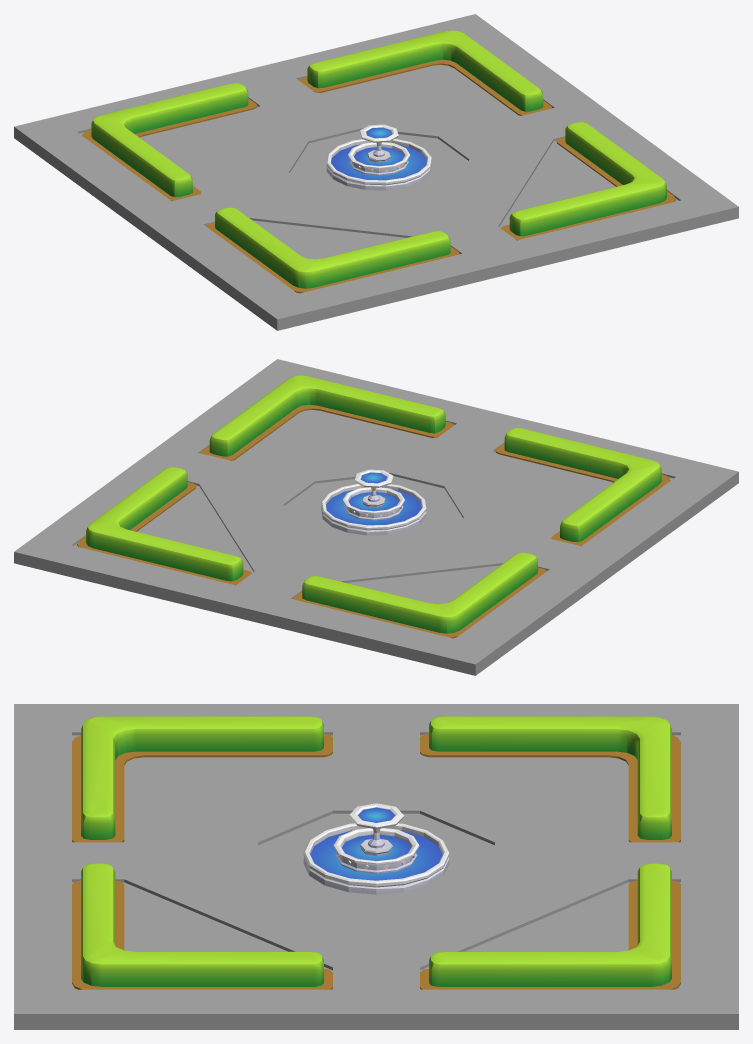
File: Center.fbx
3 views of the same model, one above another, from view 1: azimuth 30°, elevation 25°; view 2: azimuth 150°, elevation 25°; view 3: azimuth 270°, elevation 25° (orthographic). The views are drawn at different scales.
Visible parts, largest first — view 1: Center, Fountain; view 2: Center, Fountain; view 3: Center, Fountain.
Part boxes in pixels (<box>): Center: <box>14,14,738,330</box>; Fountain: <box>326,124,431,190</box>; Center: <box>14,359,738,675</box>; Fountain: <box>321,469,426,535</box>; Center: <box>14,704,738,1029</box>; Fountain: <box>303,803,449,894</box>.
Size of the model in its own units: 5058 by 477 by 5000.
3 materials, 1 textured.
